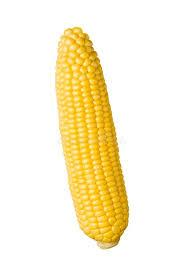non-mango: (54, 25, 129, 249)
